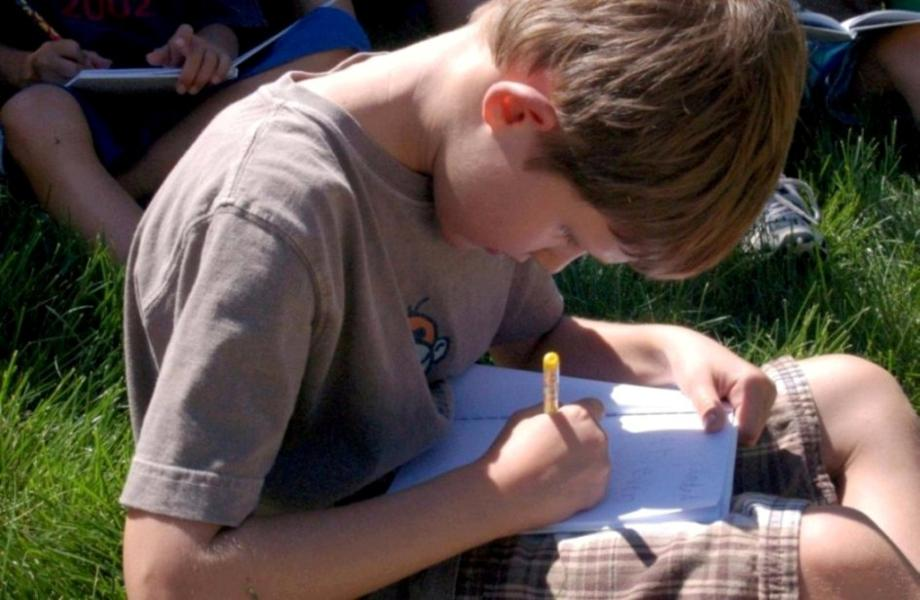person: (120, 9, 917, 600)
